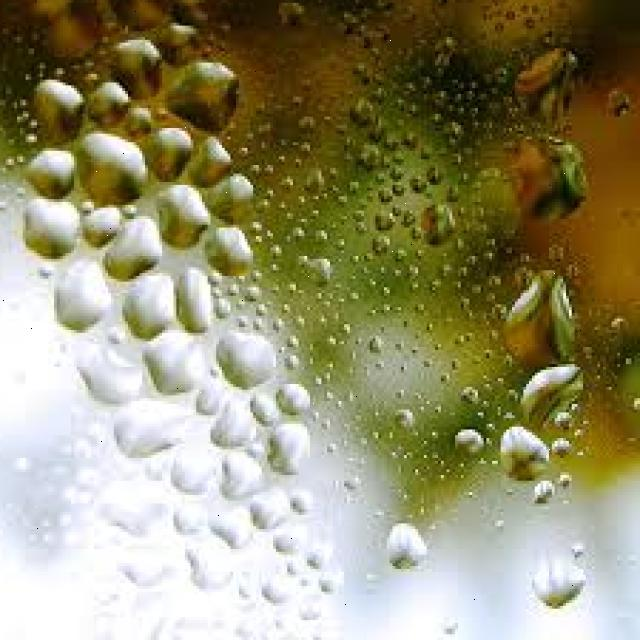raindrop: (489, 260, 582, 375), (502, 120, 600, 228), (156, 43, 250, 143), (70, 119, 158, 218), (32, 252, 122, 344), (132, 317, 224, 405), (506, 33, 584, 134), (64, 332, 152, 416), (104, 392, 202, 464), (10, 186, 100, 264), (96, 210, 168, 298), (486, 418, 566, 496), (112, 264, 184, 350), (513, 540, 594, 616), (205, 322, 282, 398), (162, 261, 230, 346), (144, 176, 211, 262), (508, 363, 584, 431), (201, 382, 267, 458), (157, 433, 222, 504), (198, 220, 266, 286), (239, 479, 304, 542), (257, 416, 314, 484), (196, 496, 262, 554), (375, 517, 434, 581), (201, 164, 256, 232), (445, 418, 498, 470), (414, 201, 464, 255)
